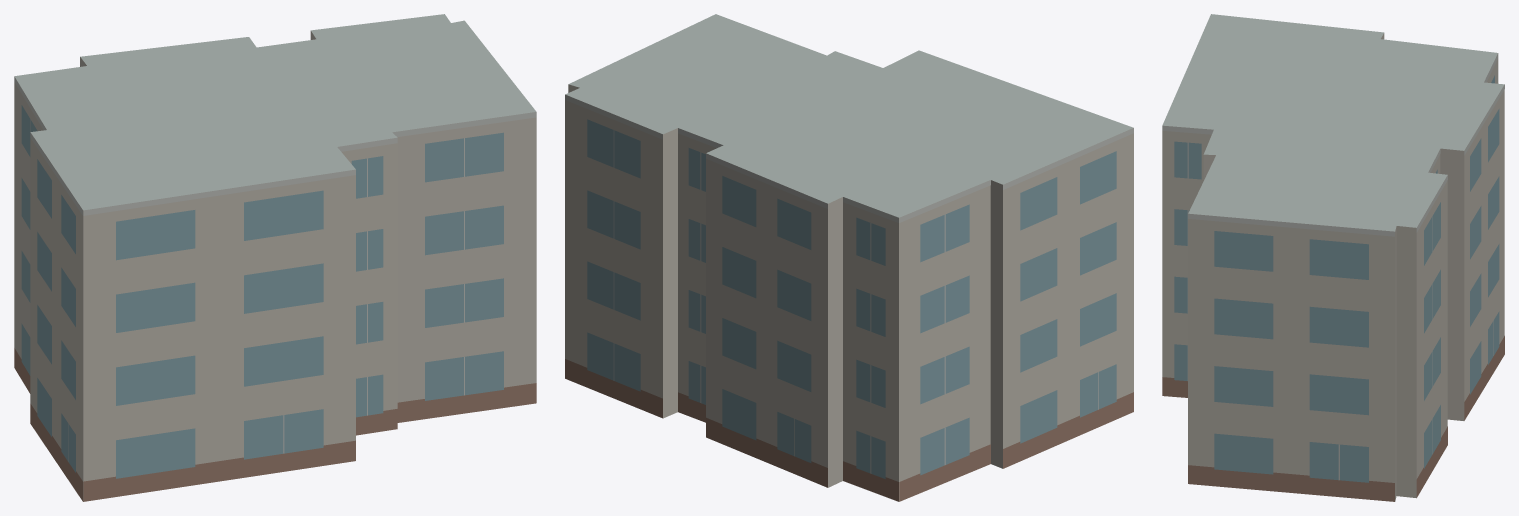
Rendered from survey-upis-32631193.glb.
The picture shows the model from 3 angles, left to right: view 1: azimuth 30°, elevation 25°; view 2: azimuth 150°, elevation 25°; view 3: azimuth 270°, elevation 25°; orthographic projection. The views are drawn at different scales.
Visible parts, largest first — view 1: survey-upis-32631193.tmp; view 2: survey-upis-32631193.tmp; view 3: survey-upis-32631193.tmp.
Part boxes in pixels (box(x1,y1,x2,y2)): survey-upis-32631193.tmp: box(14, 14, 536, 501); survey-upis-32631193.tmp: box(565, 14, 1133, 501); survey-upis-32631193.tmp: box(1162, 14, 1504, 501).
Size of the model in its own units: 22.11 by 12.8 by 14.71.
